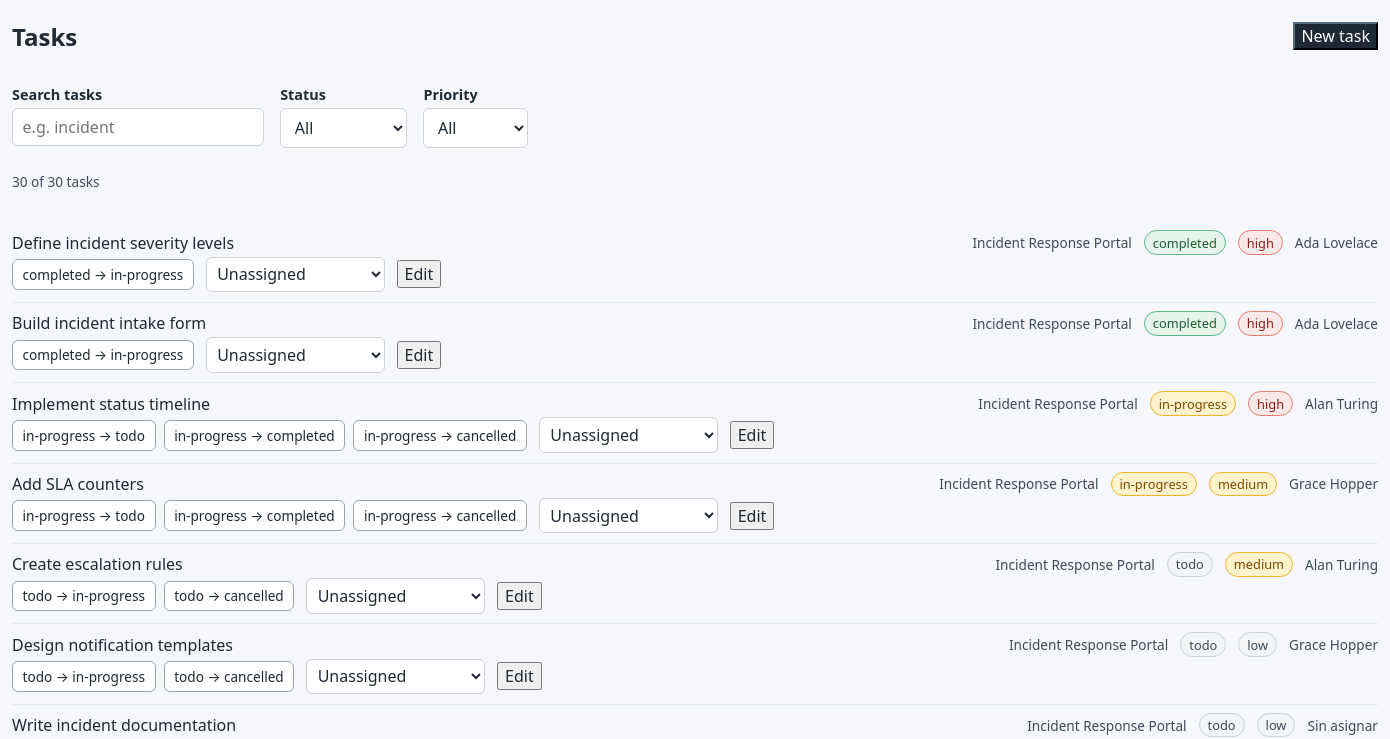
Test: TasksComponent › creates a task with defaults (TSK-CREATE)
Click the button "New task".
click(1336, 36)  # box [1293,22,1378,50]
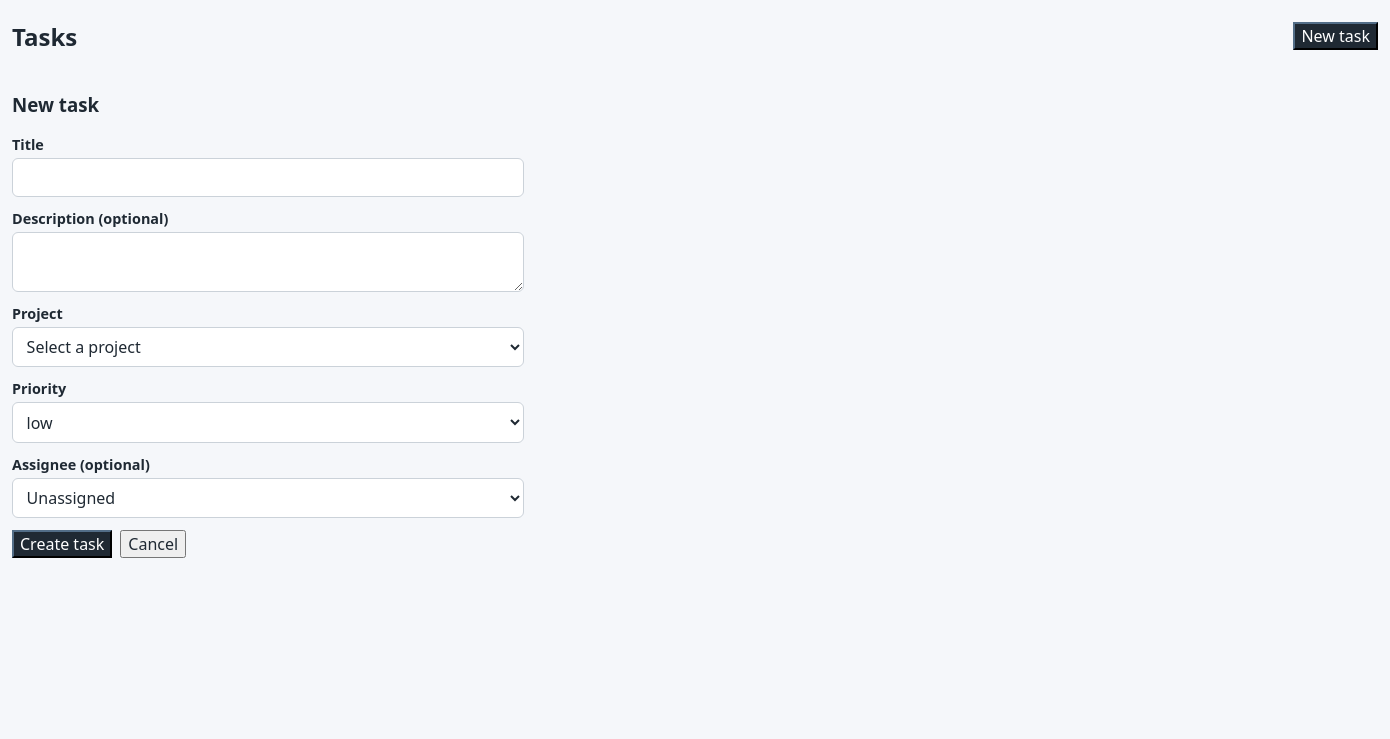
Type "Brand new task" into the field with id "task-title".
click(268, 178); type("Brand new task")  # box [12,158,524,197]
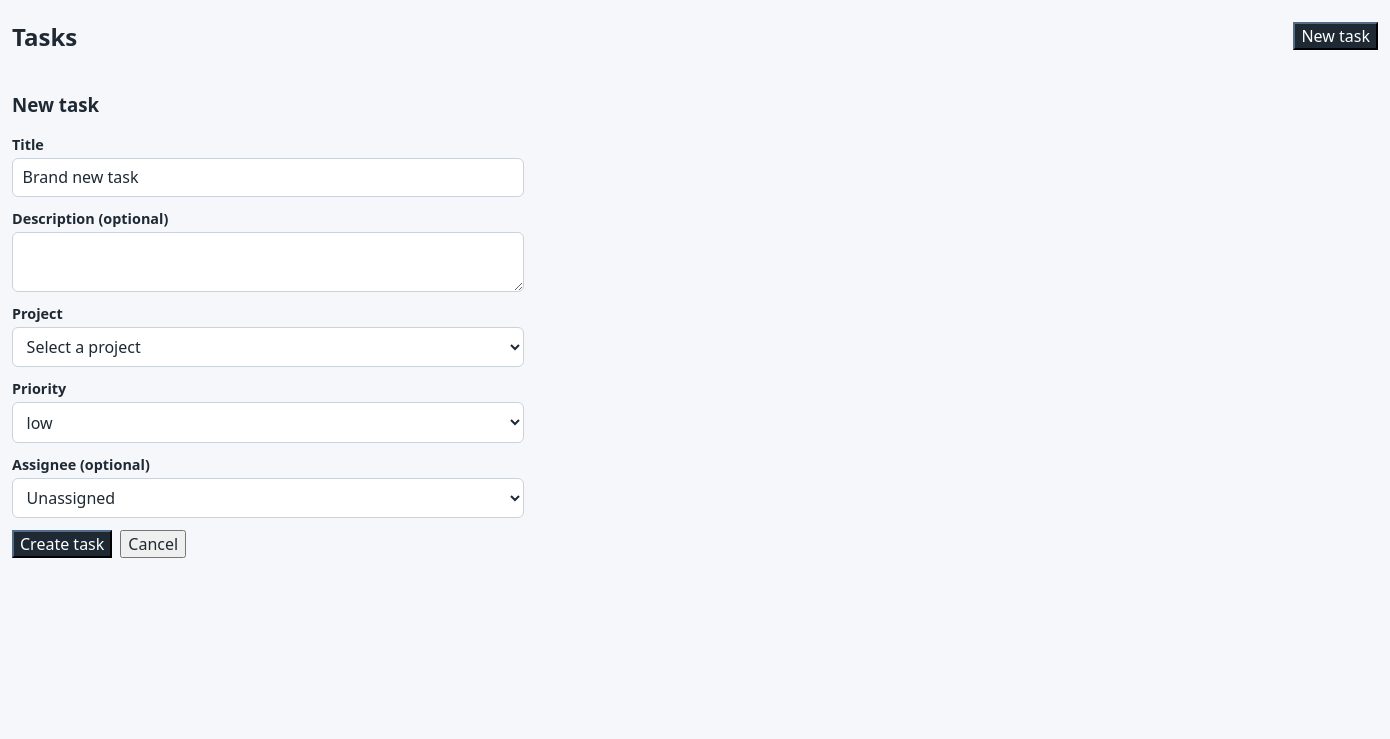
Select "Incident Response Portal" in the dropdown with id "task-project" at (268, 347), box [12,327,524,367]
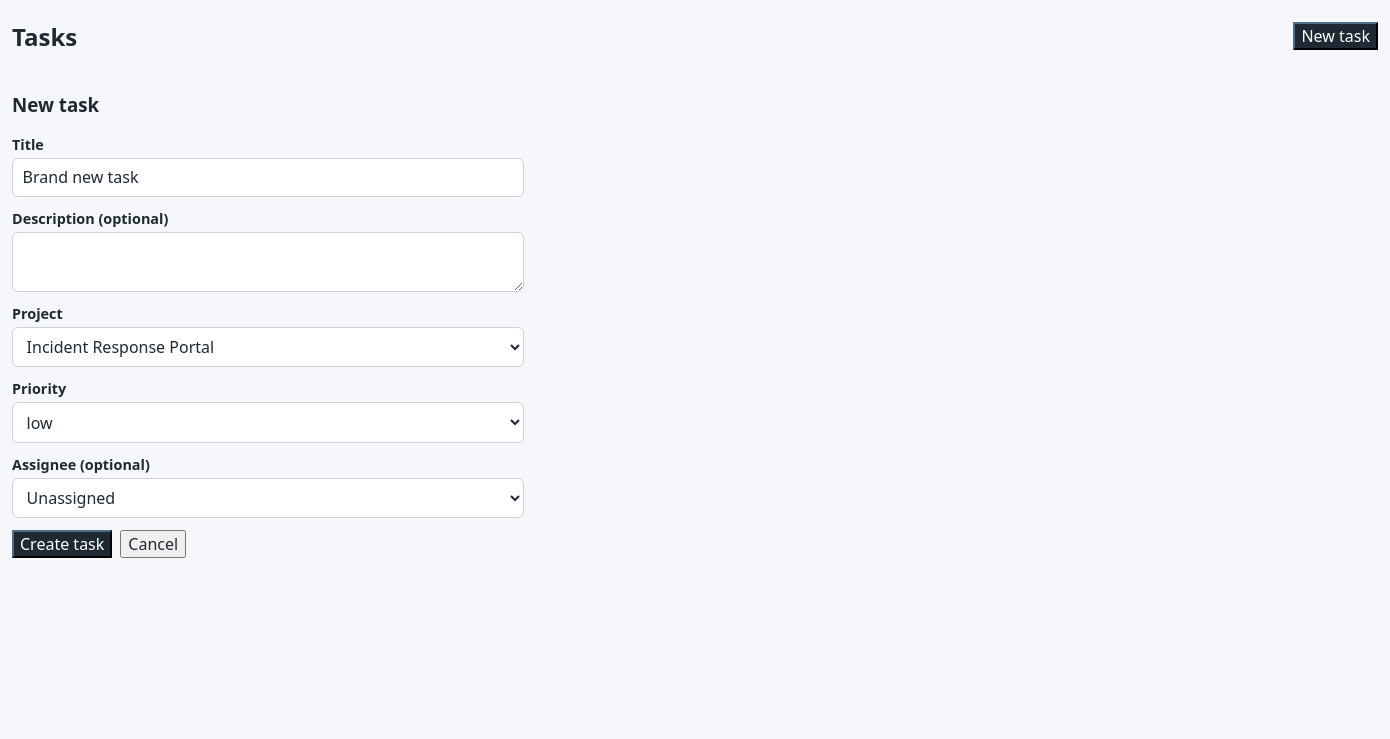
Submit the form, box [12,92,524,558]
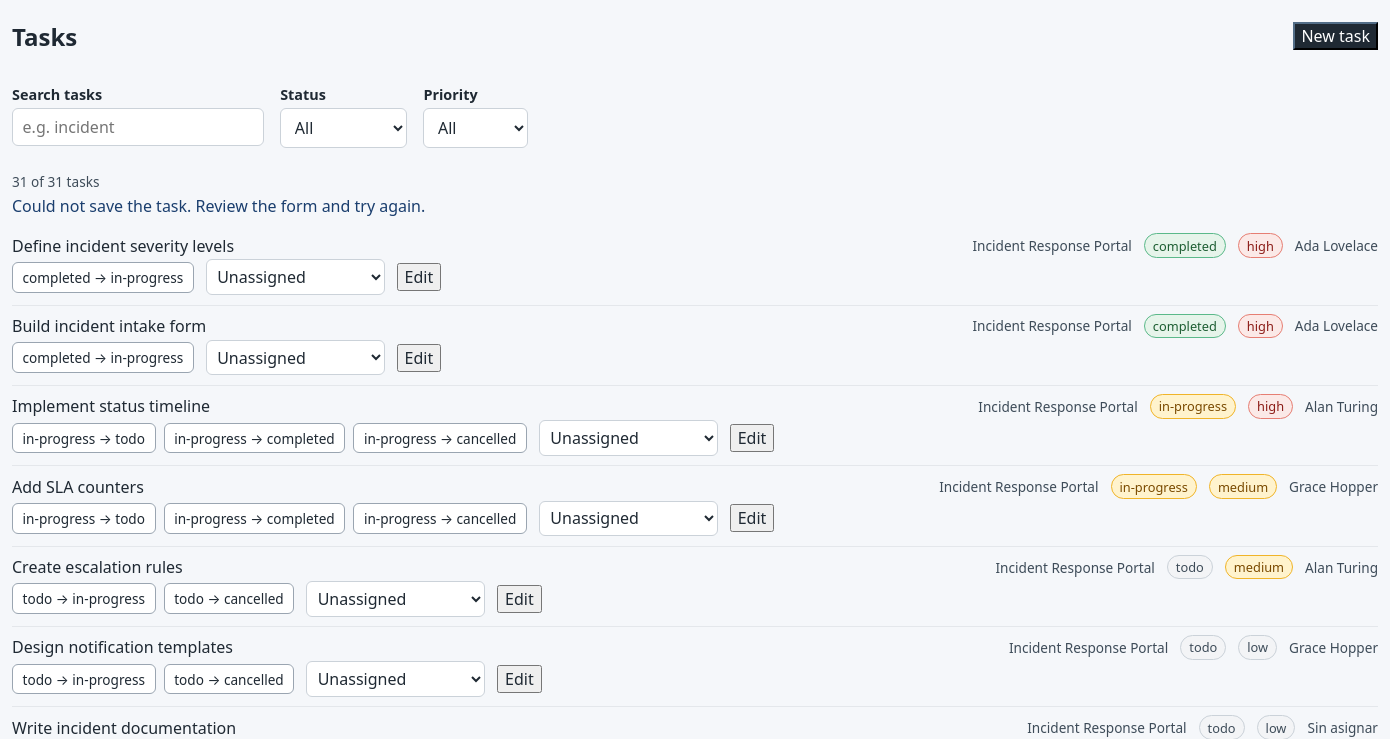
expect the text "todo" in the row of "Create escalation rules" is shown: met, box [1176,558,1204,576]
expect the text "medium" in the row of "Add SLA counters" is shown: met, box [1218,478,1268,496]
